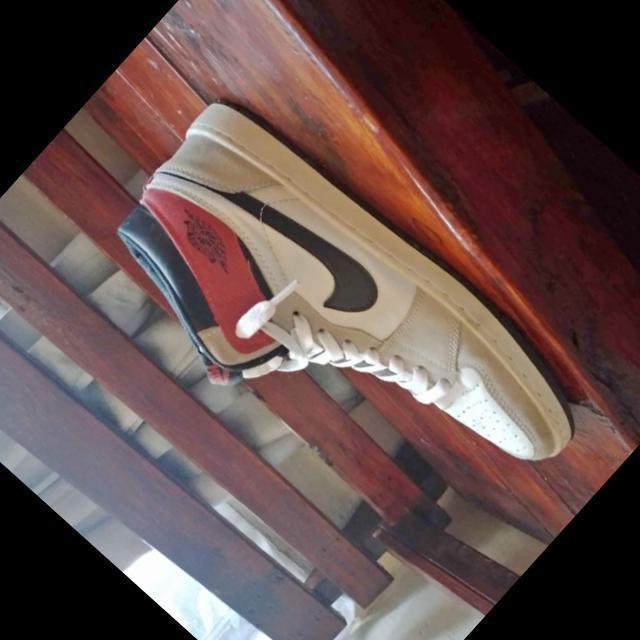nike fake jordan 1: (70, 73, 610, 593)
